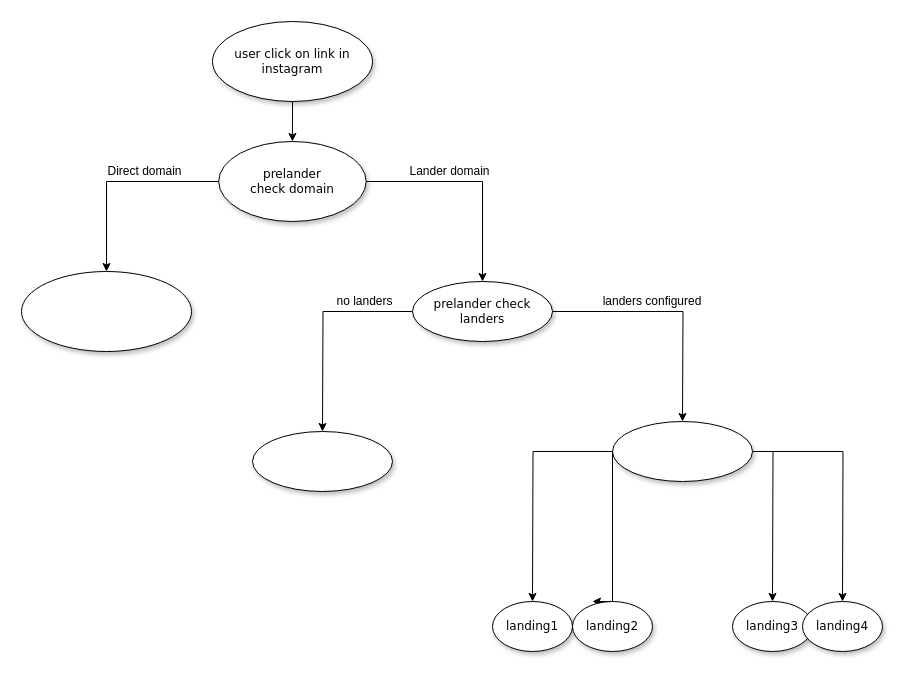
This 906x676 diagram has some shape labels left out. Here are the shapes that lost their labels. From the top down, the centre of each, then its label:
At (107,312): "Redirect to affise offer link".
At (323,462): "default landing page".
At (683,452): "check landers probability and randomize".
